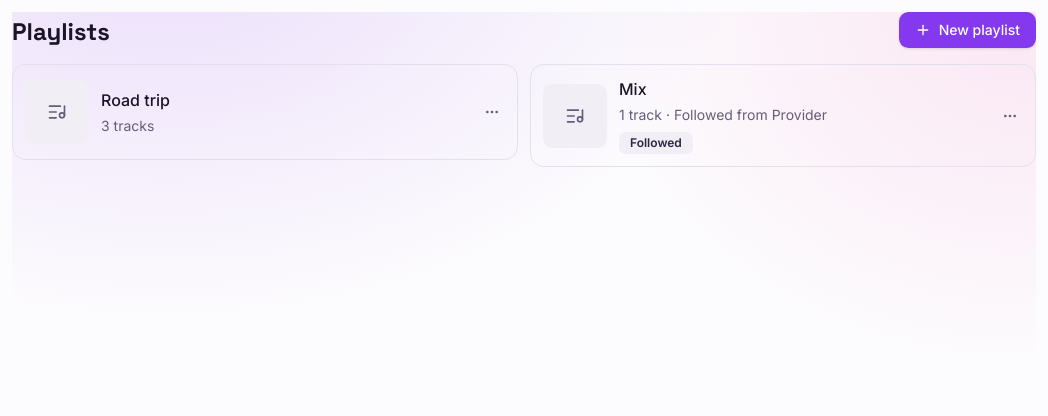
Test: Playlists page — the menu of each playlist › has one menu button on each card, outside the link, and the entries follow the kind
The image size is (1048, 416).
Expected: the number of links is 2, [12,64,518,160]; [530,64,1036,167]
Click the button named "More actions for Road trip". click: (492, 112)
box: [470,90,514,134]
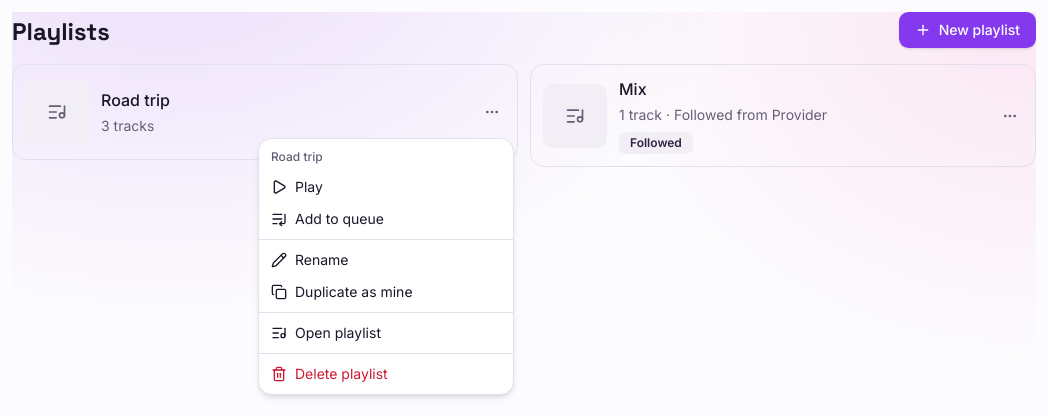
Expected: the menu is shown, [258,138,514,395]
